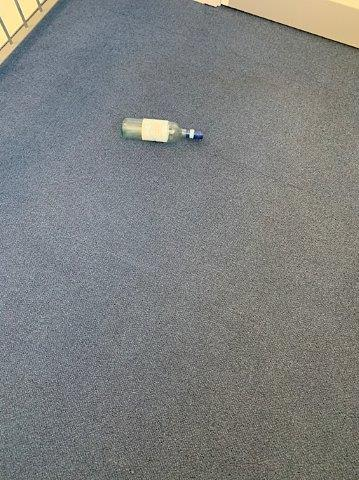botolkaca: (120, 116, 204, 146)
